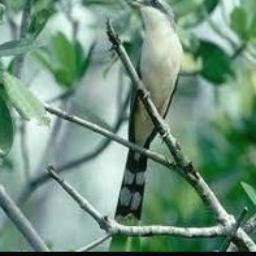Cuckoo: (113, 0, 182, 228)
